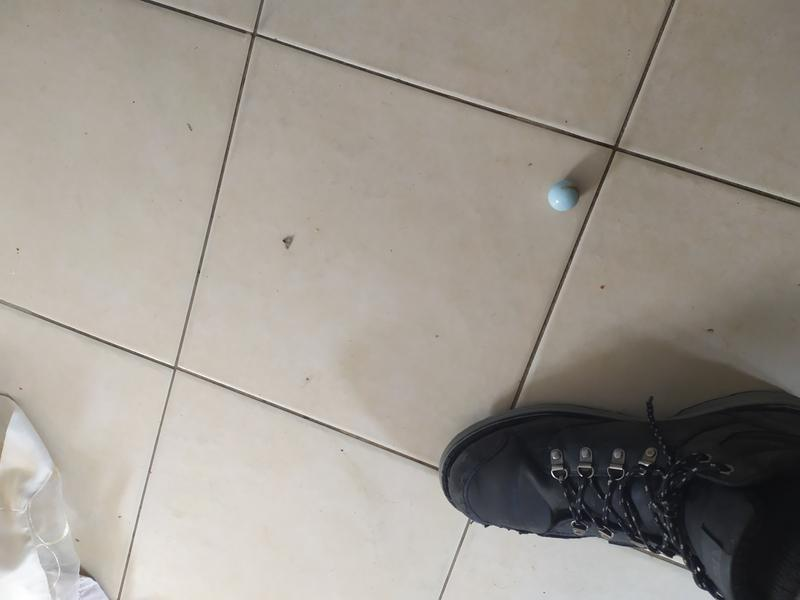Warning: (545, 176, 583, 214)
